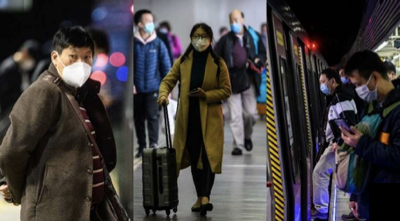with_mask: (58, 48, 94, 88), (350, 79, 377, 102), (191, 29, 210, 51), (229, 15, 242, 31), (318, 77, 330, 94), (144, 17, 154, 33), (338, 72, 349, 84)
